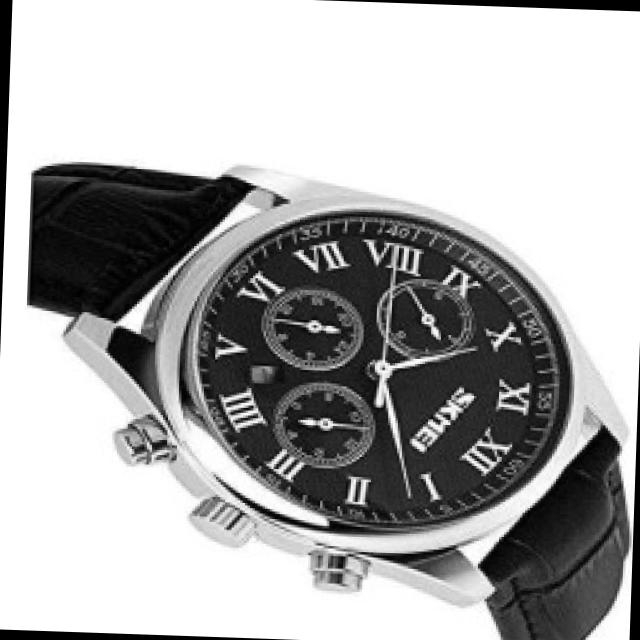saat: (6, 127, 640, 640)
